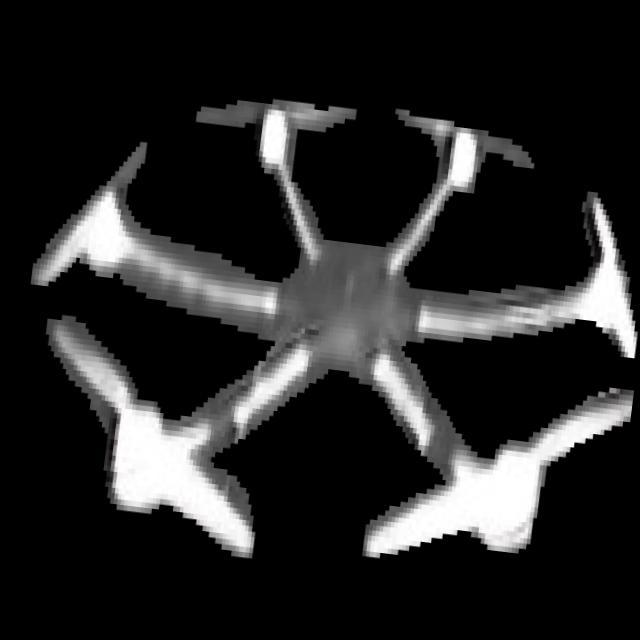drone: (21, 85, 640, 576)
